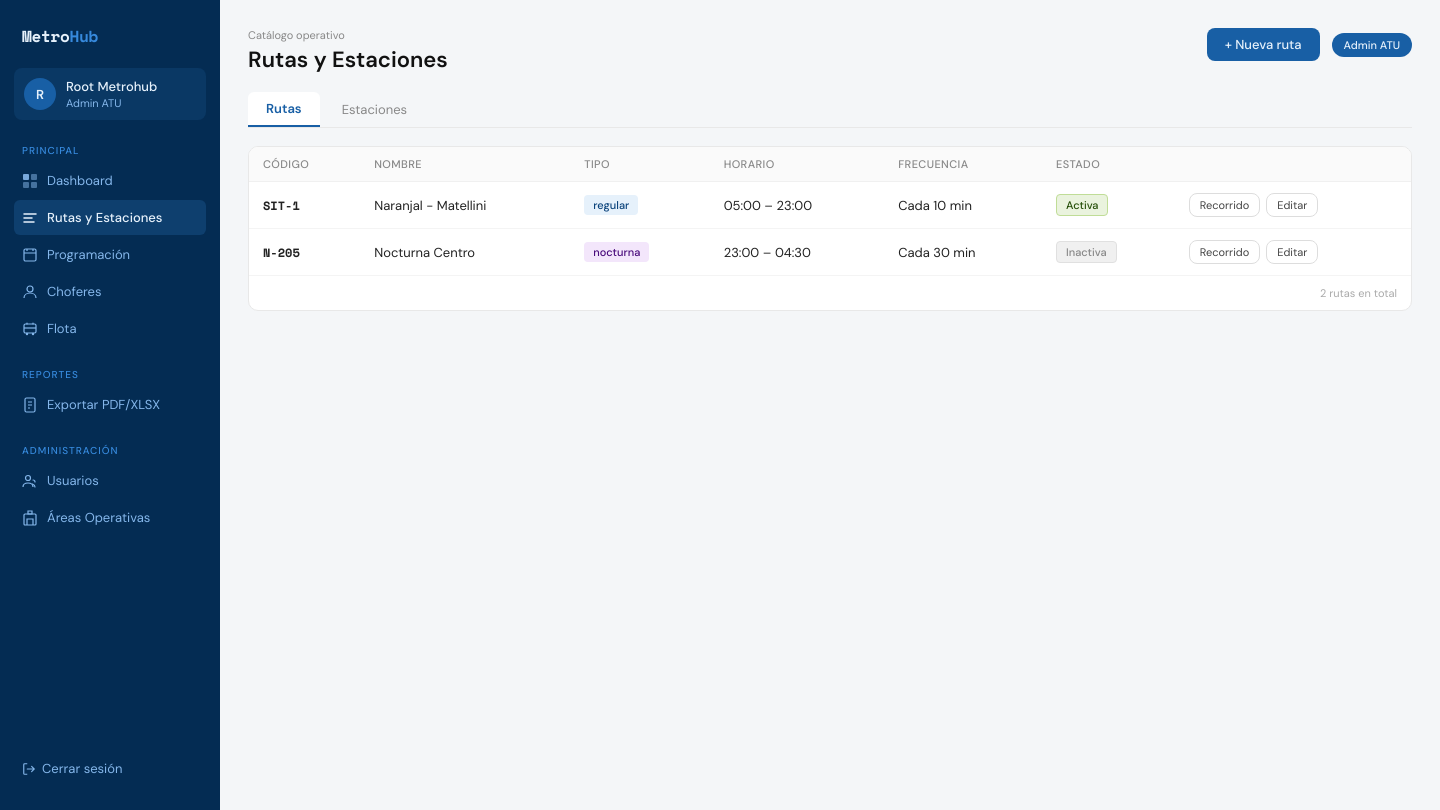
Rutas (RF02) › la pestaña Estaciones lista el catálogo
Expected: the text "SIT-1" is shown, [263, 196, 300, 214]
Click the button "Estaciones" at (374, 110), box [324, 92, 425, 127]
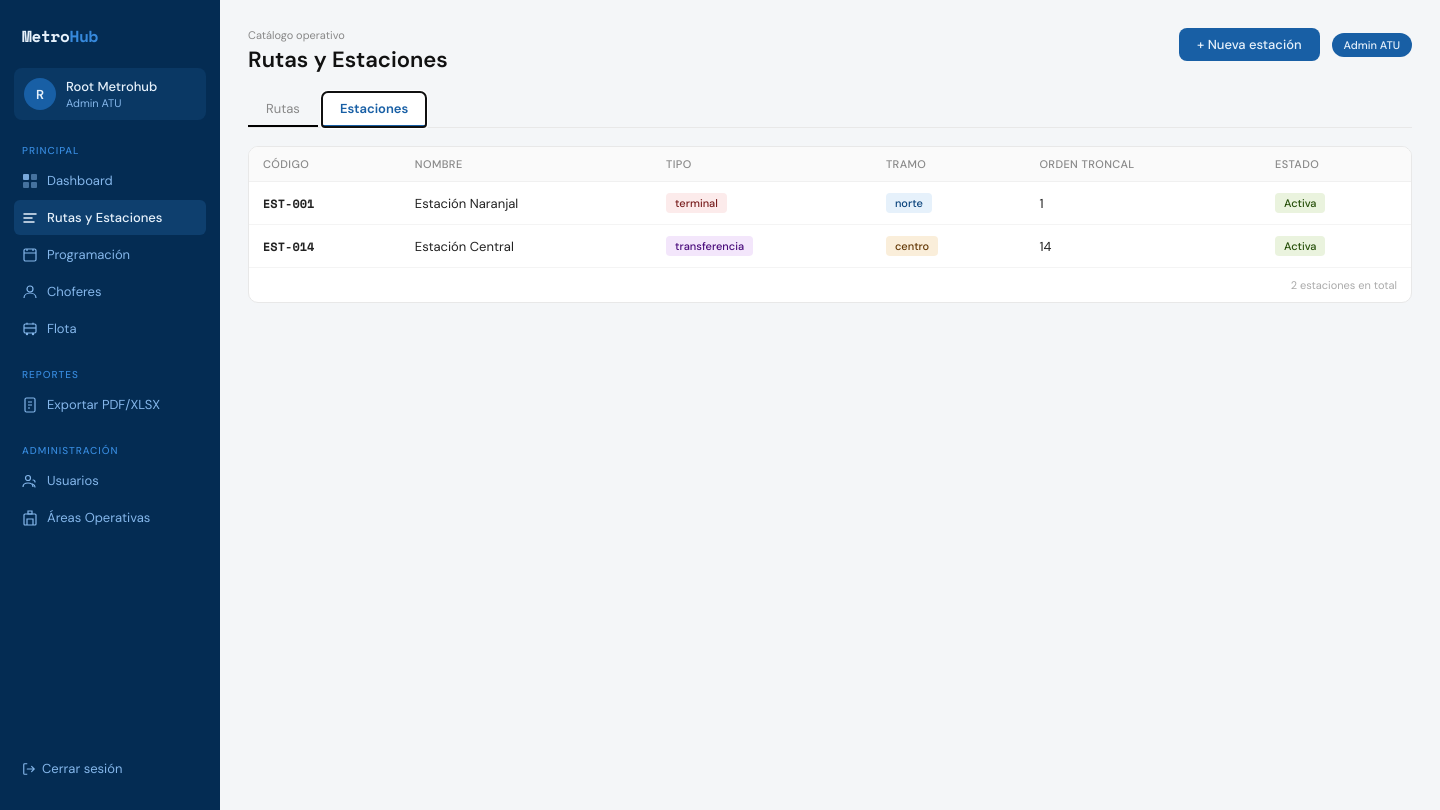
Expected: the text "EST-001" is shown, [263, 194, 314, 212]
Expected: the text "Estación Naranjal" is shown, [415, 194, 518, 212]
Expected: the text "terminal" is shown, [675, 196, 718, 210]
